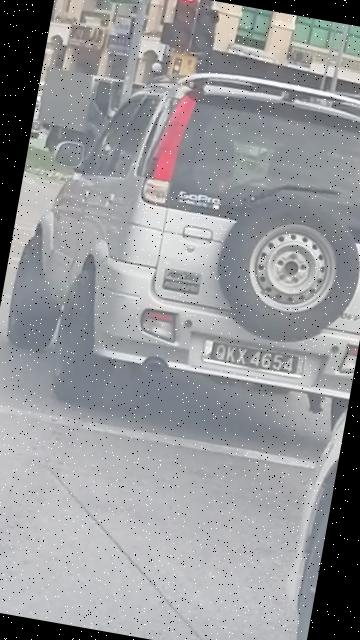License_Plate: (212, 343, 300, 376)
car: (1, 42, 360, 460)
